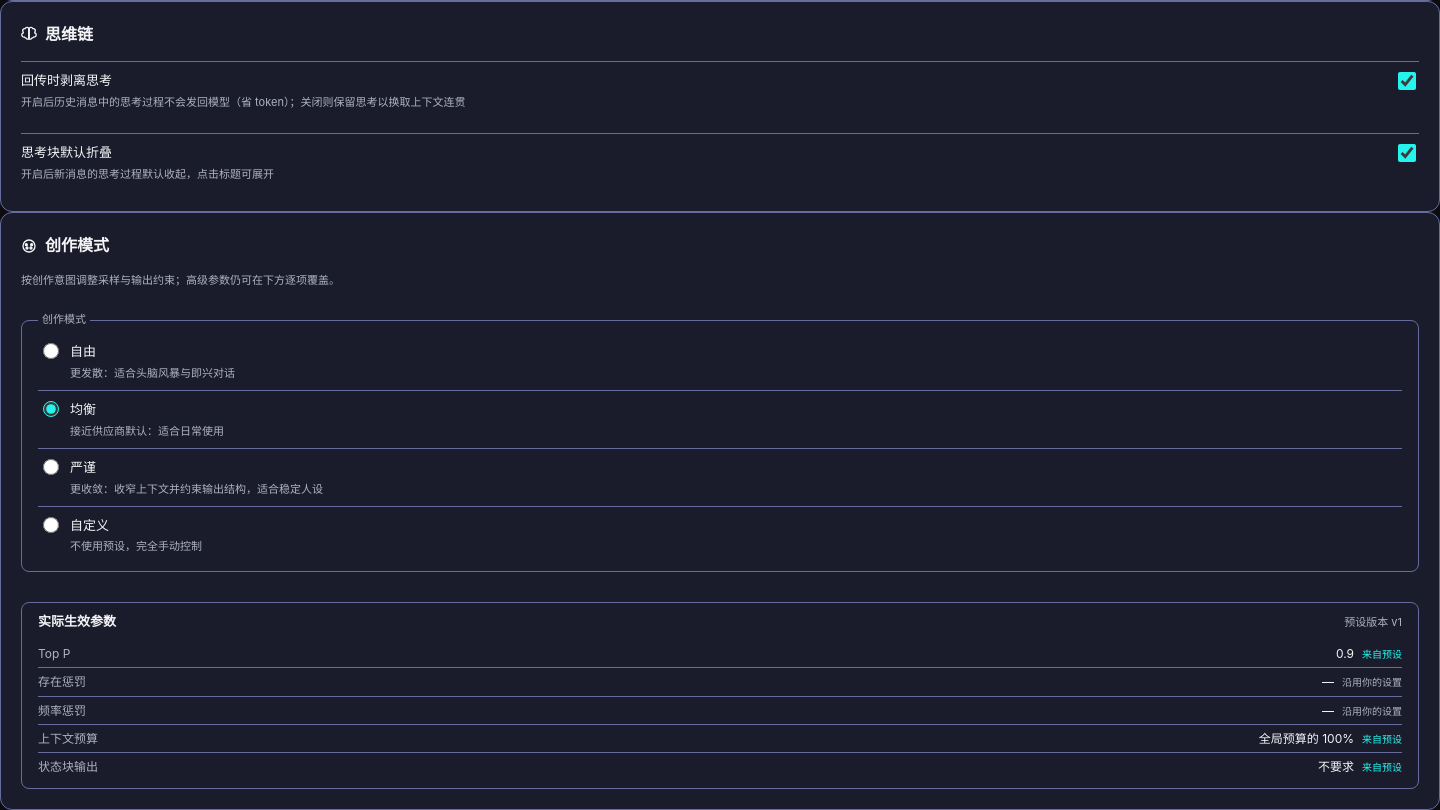
Test: SettingsModelPanel 创作模式（Preset） › 切换 custom：参数表隐藏，展示自定义模式提示
(page scrolled)
Click the radio button named "creation-preset" at (51, 525), box [43,517,59,533]
(page scrolled)
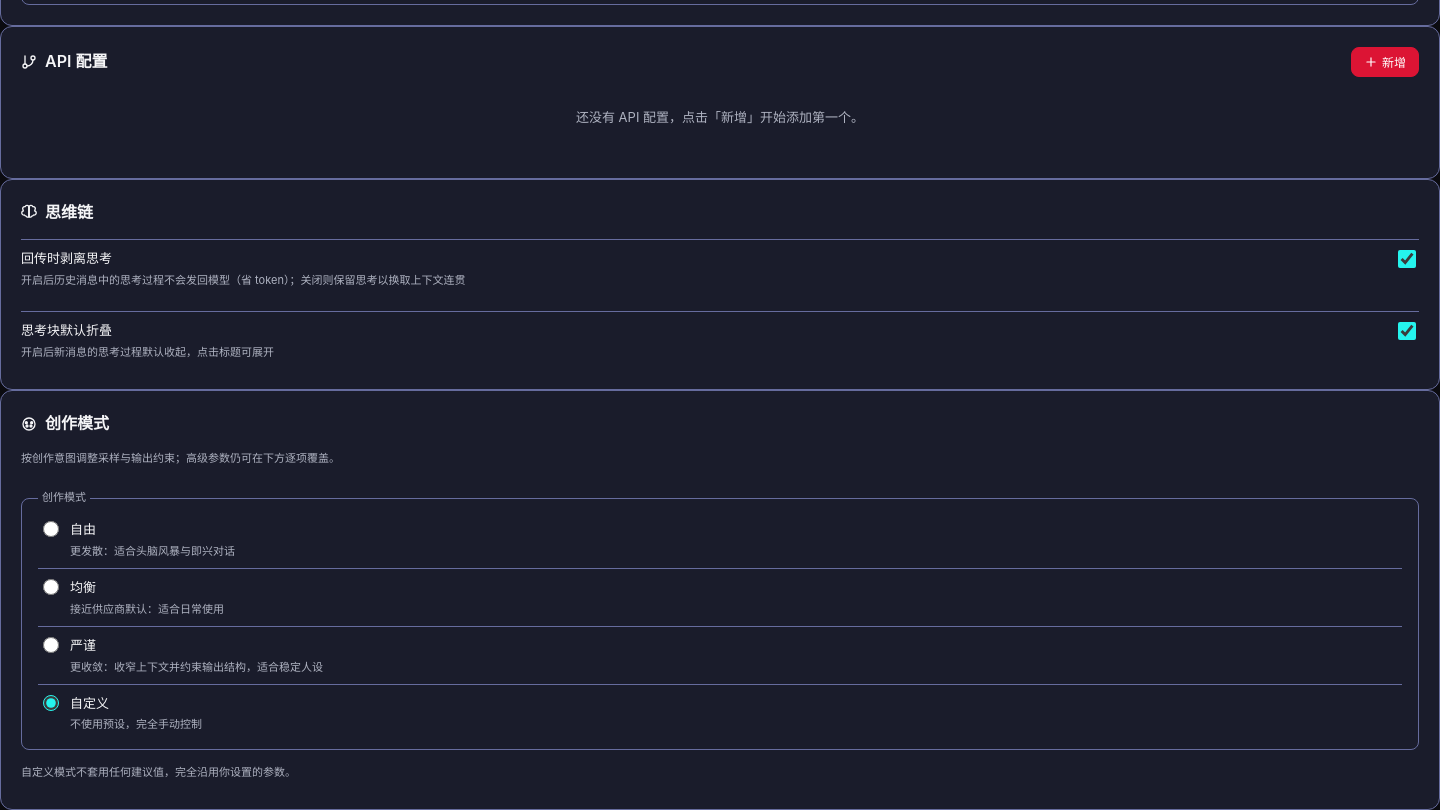
Check: the text "自定义模式不套用任何建议值，完全沿用你设置的参数。" is shown, box [21,765,296,779]
